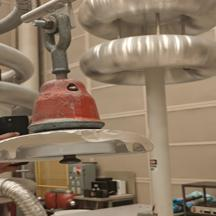insulator: (0, 75, 161, 165)
